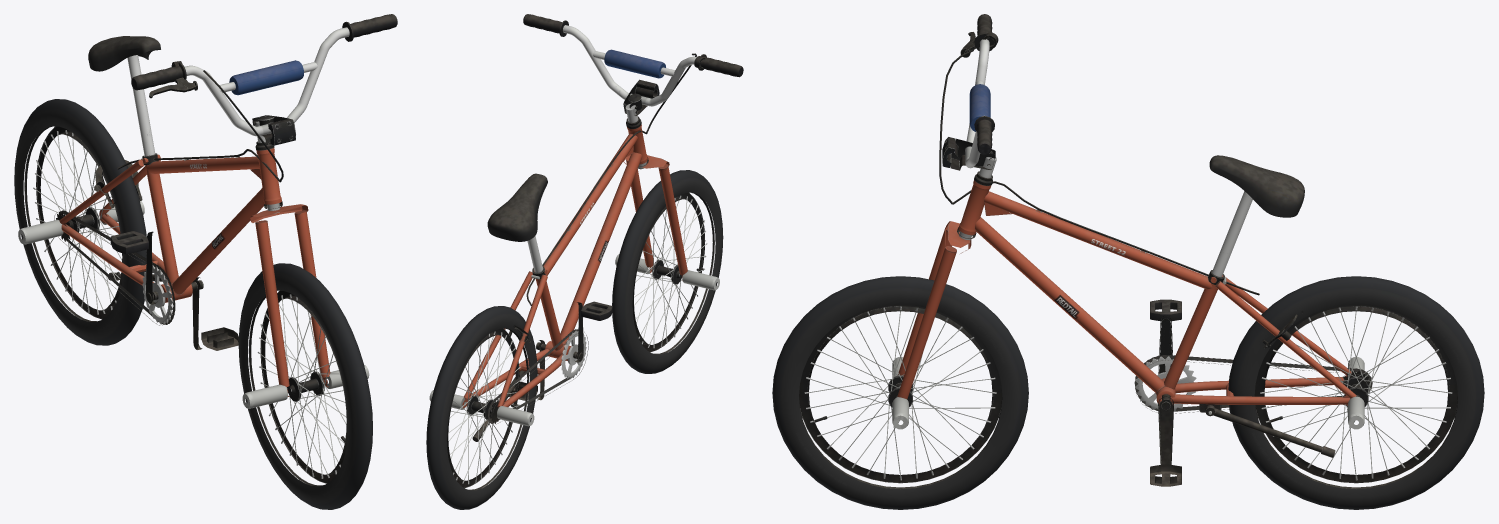
Rendered from bike.jamie.glb.
The picture shows the model from 3 angles, left to right: view 1: azimuth 30°, elevation 25°; view 2: azimuth 150°, elevation 25°; view 3: azimuth 270°, elevation 25°; orthographic projection. The views are drawn at different scales.
Parts seen in each view (by area): view 1: bike.jamie:wheel_front, bike.jamie:wheel_rear, bike.jamie:frame, bike.jamie:steer, bike.jamie:crank, bike.jamie:chain, bike.jamie:pedal_r, bike.jamie:pedal_l; view 2: bike.jamie:frame, bike.jamie:wheel_front, bike.jamie:wheel_rear, bike.jamie:steer, bike.jamie:crank, bike.jamie:chain, bike.jamie:pedal_r; view 3: bike.jamie:wheel_front, bike.jamie:wheel_rear, bike.jamie:frame, bike.jamie:steer, bike.jamie:crank, bike.jamie:kickstand, bike.jamie:chain.
Boxes of the visible parts, bbox=[...] form: bike.jamie:wheel_front: bbox=[238, 263, 372, 509]; bike.jamie:wheel_rear: bbox=[14, 99, 146, 345]; bike.jamie:frame: bbox=[18, 36, 282, 302]; bike.jamie:steer: bbox=[131, 14, 397, 408]; bike.jamie:crank: bbox=[142, 231, 203, 349]; bike.jamie:chain: bbox=[54, 210, 175, 325]; bike.jamie:pedal_r: bbox=[110, 231, 148, 254]; bike.jamie:pedal_l: bbox=[201, 327, 238, 350]; bike.jamie:frame: bbox=[429, 118, 648, 426]; bike.jamie:wheel_front: bbox=[612, 170, 723, 373]; bike.jamie:wheel_rear: bbox=[426, 306, 537, 509]; bike.jamie:steer: bbox=[523, 14, 743, 290]; bike.jamie:crank: bbox=[536, 302, 586, 400]; bike.jamie:chain: bbox=[488, 329, 588, 424]; bike.jamie:pedal_r: bbox=[581, 301, 612, 320]; bike.jamie:wheel_front: bbox=[772, 276, 1028, 509]; bike.jamie:wheel_rear: bbox=[1228, 276, 1484, 509]; bike.jamie:frame: bbox=[953, 155, 1364, 429]; bike.jamie:steer: bbox=[892, 14, 998, 429]; bike.jamie:crank: bbox=[1135, 315, 1196, 464]; bike.jamie:kickstand: bbox=[1205, 405, 1335, 457]; bike.jamie:chain: bbox=[1134, 355, 1372, 413].
Size of what is drawn, in the model's own units: 0.692 by 1.08 by 1.61.
3 materials, 3 textured.
